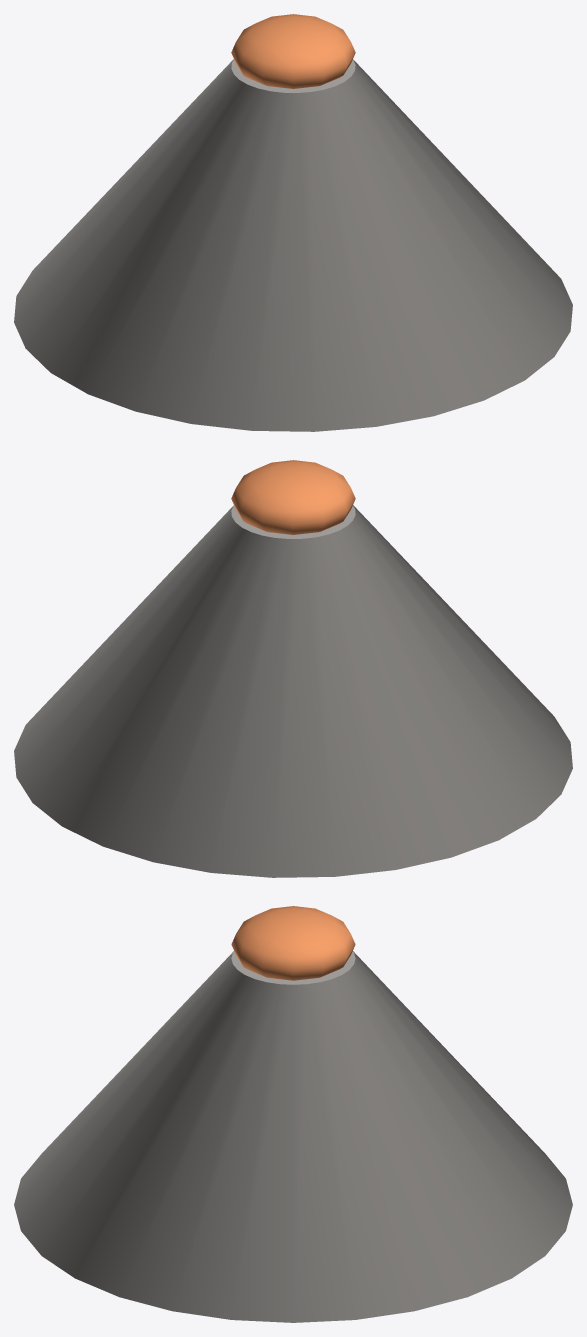
File: volcano.glb
The picture shows the model from 3 angles, top to bottom: view 1: azimuth 30°, elevation 25°; view 2: azimuth 150°, elevation 25°; view 3: azimuth 270°, elevation 25°; orthographic projection.
Size of the model in its own units: 1.44 by 0.82 by 1.44.
